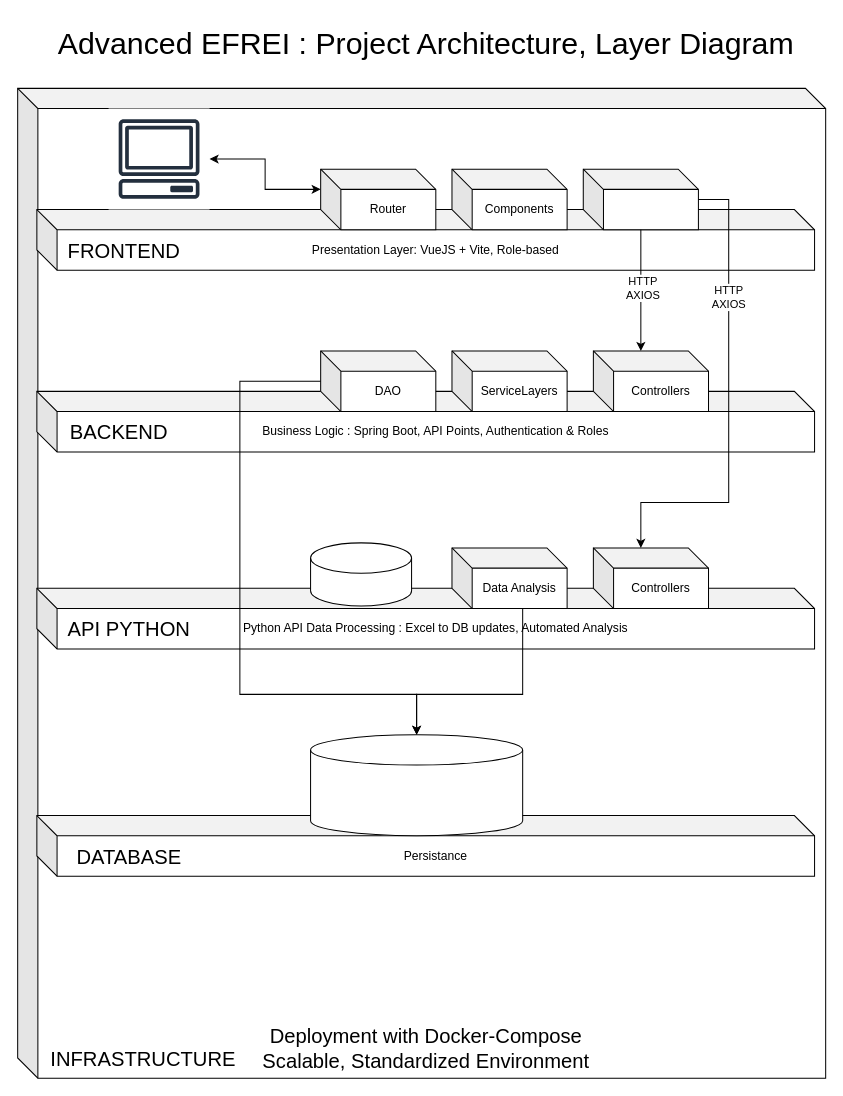
Image size: 843x1096. Some labels were removed from this diagram. The shapes that lost their labels are listed below. From the top down, each one's centre as x and y in pixels, then its label:
the point at 159,159: Client
the point at 640,199: Service
the point at 361,574: Excel Files Storage
the point at 416,785: MySQL Preloaded Data SQL Initialization
